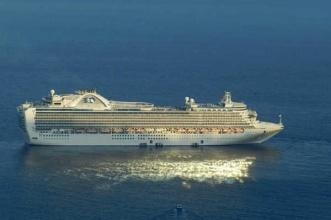youlun: (17, 87, 289, 147)
